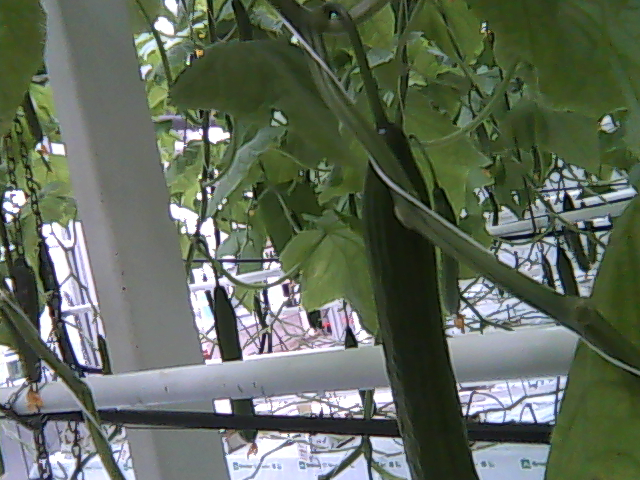concombre: (359, 117, 484, 480)
